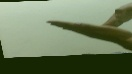hand: (46, 20, 130, 46), (101, 1, 132, 27)
